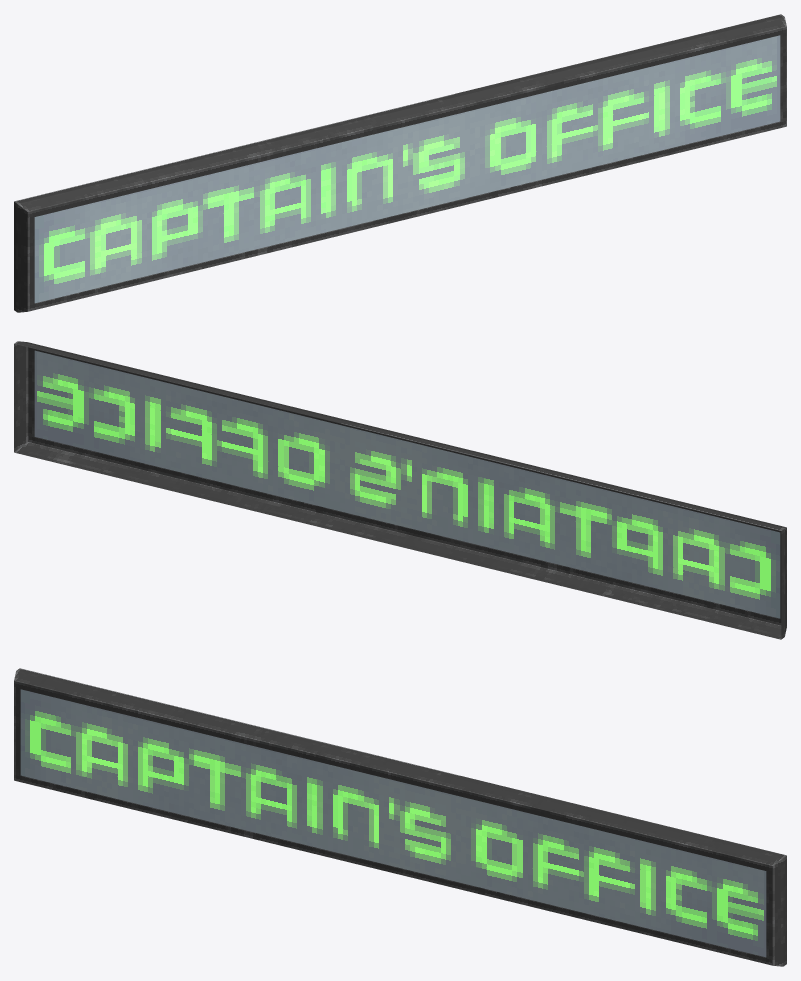
Rendered from large_captain.glb.
The picture shows the model from 3 angles, top to bottom: view 1: azimuth 30°, elevation 25°; view 2: azimuth 150°, elevation 25°; view 3: azimuth 330°, elevation 25°; orthographic projection.
Parts seen in each view (by area): view 1: Sign-Large_CaptainsOffice; view 2: Sign-Large_CaptainsOffice; view 3: Sign-Large_CaptainsOffice.
Boxes of the visible parts, x1=… form: Sign-Large_CaptainsOffice: x1=14, y1=14, x2=786, y2=312; Sign-Large_CaptainsOffice: x1=14, y1=341, x2=786, y2=639; Sign-Large_CaptainsOffice: x1=14, y1=668, x2=786, y2=966.
Bounding box in the file's own units: 18.61 × 2.52 × 0.4128.
1 material, 1 textured.
